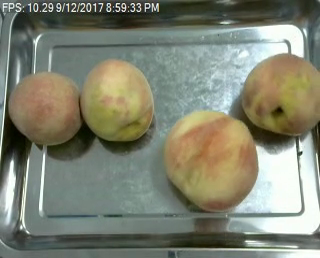Peach: (164, 110, 259, 212), (240, 52, 319, 135), (80, 58, 154, 141), (7, 71, 82, 147)
